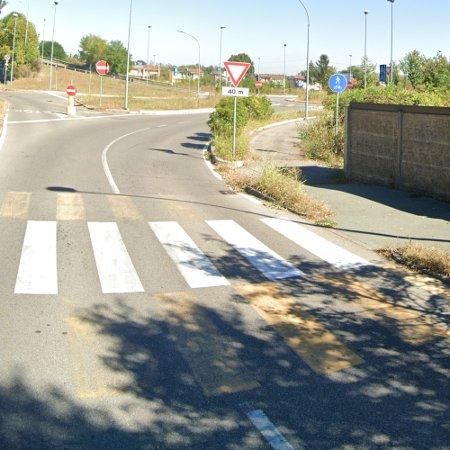crosswalks: (7, 217, 375, 293)
